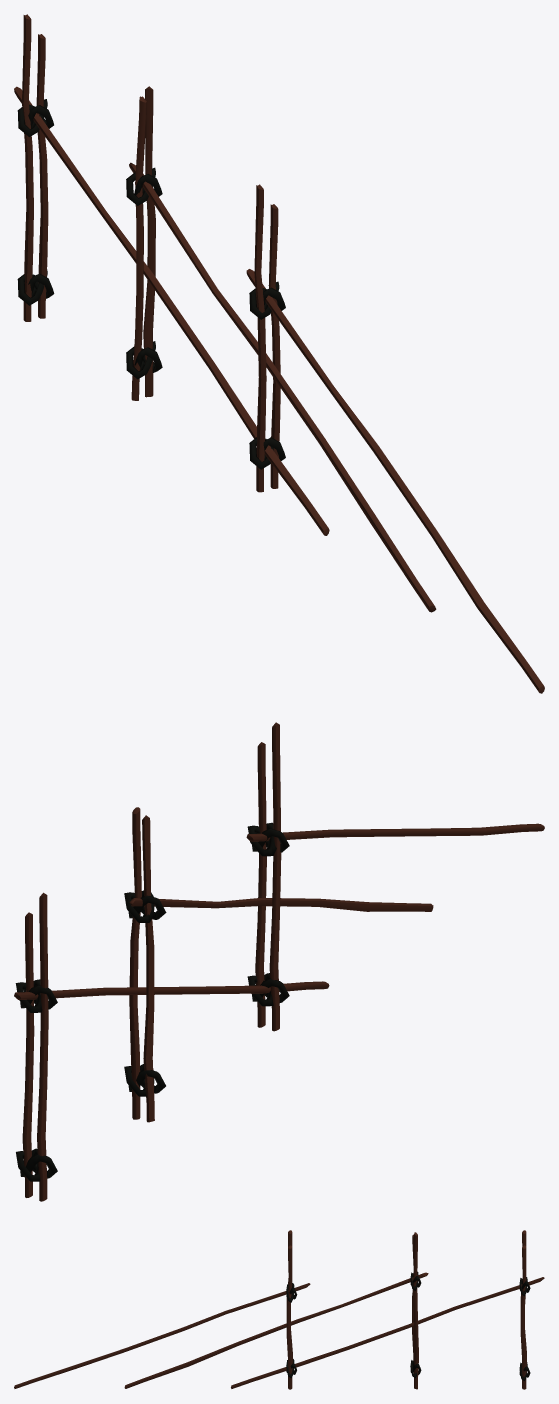
File: revenant_pole_fence_mid_01.fbx
3 renders of one model, top to bottom at view 1: azimuth 30°, elevation 25°; view 2: azimuth 150°, elevation 25°; view 3: azimuth 270°, elevation 25°, orthographic. The views are drawn at different scales.
Parts seen in each view (by area): view 1: Box008, Torus Knot002; view 2: Box008, Torus Knot002; view 3: Box008, Torus Knot002.
Part boxes in pixels (bbox=[...]): Box008: bbox=[14, 14, 544, 693]; Torus Knot002: bbox=[17, 99, 285, 469]; Box008: bbox=[14, 722, 544, 1201]; Torus Knot002: bbox=[15, 822, 289, 1181]; Box008: bbox=[14, 1230, 544, 1389]; Torus Knot002: bbox=[286, 1271, 530, 1380].
Bounding box in the file's own units: 24.7 × 206 × 627.
